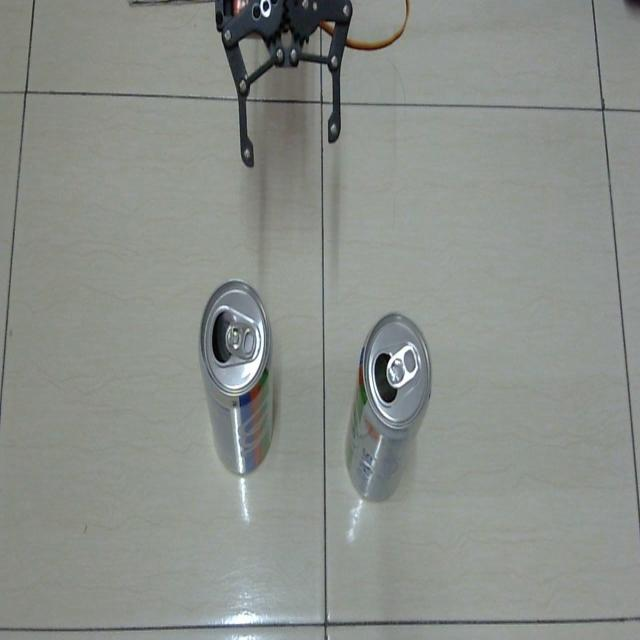metal_standrotation: (342, 291, 434, 512), (198, 274, 286, 486)
